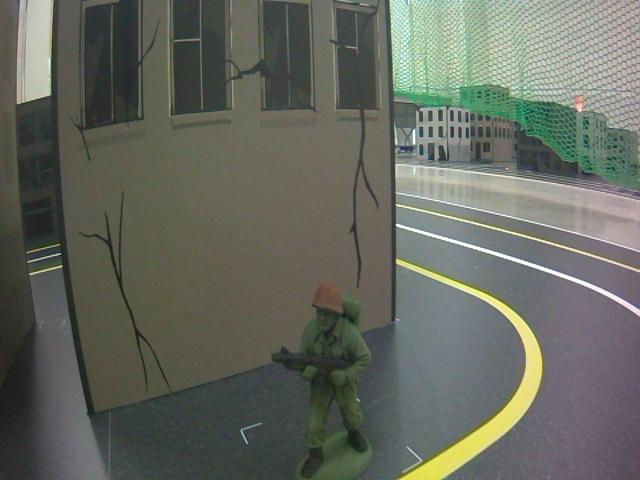Enemy: (270, 279, 371, 480)
